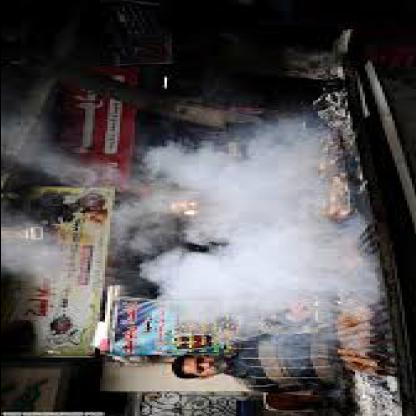Smoke: (144, 142, 324, 316)
